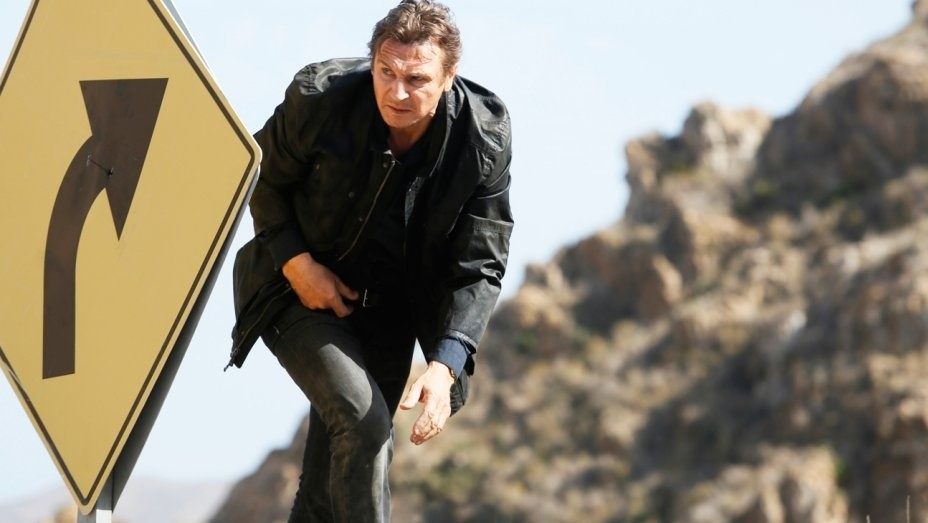face_no_mask: (370, 0, 462, 127)
